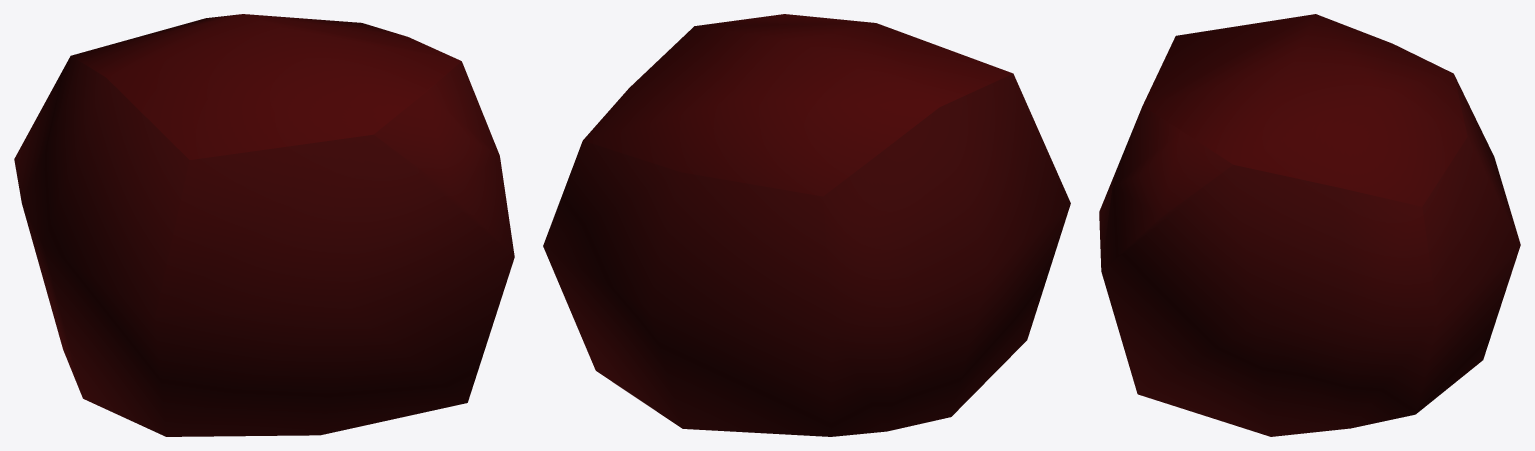
File: geology-pebbles-smalldirtchunk_v4.fbx
The picture shows the model from 3 angles, left to right: view 1: azimuth 30°, elevation 25°; view 2: azimuth 150°, elevation 25°; view 3: azimuth 270°, elevation 25°; orthographic projection. The views are drawn at different scales.
Visible parts, largest first — view 1: SmallDirtChunk_v4; view 2: SmallDirtChunk_v4; view 3: SmallDirtChunk_v4.
Part boxes in pixels (box(x1,y1,x2,y2)): SmallDirtChunk_v4: box(14, 14, 514, 436); SmallDirtChunk_v4: box(543, 14, 1070, 436); SmallDirtChunk_v4: box(1099, 14, 1520, 436).
Size of the model in its own units: 2.76 by 2.42 by 2.78.
